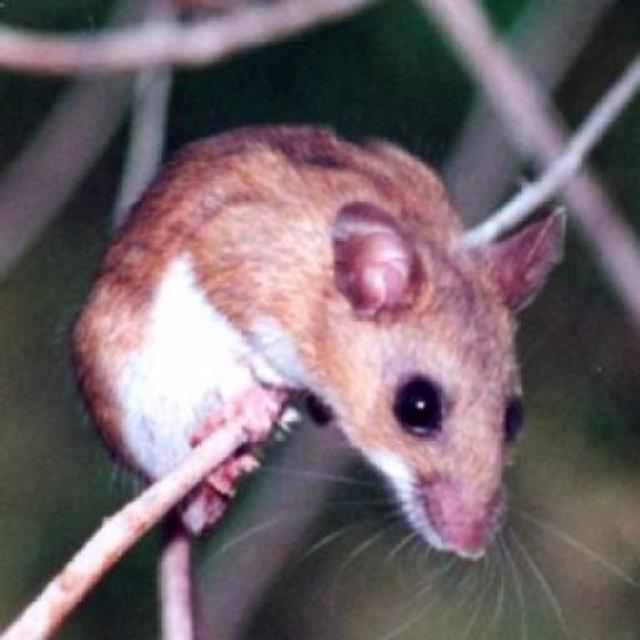Mouse: (55, 110, 575, 576)
